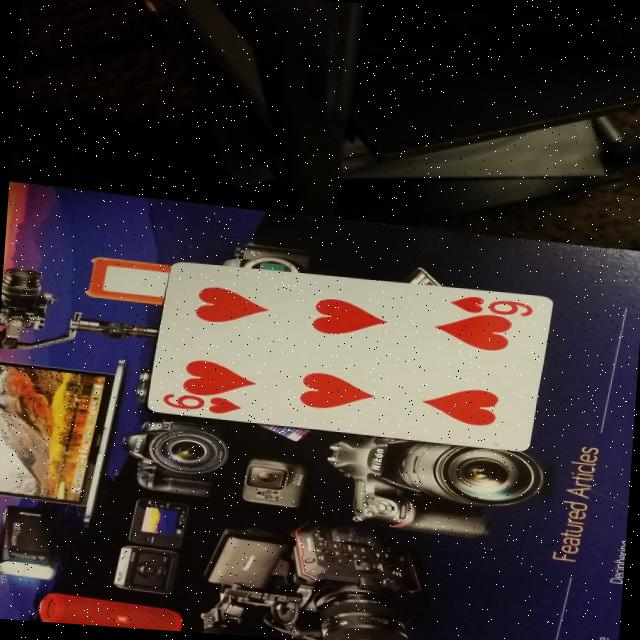6h: (440, 290, 542, 326), (156, 387, 253, 417)
